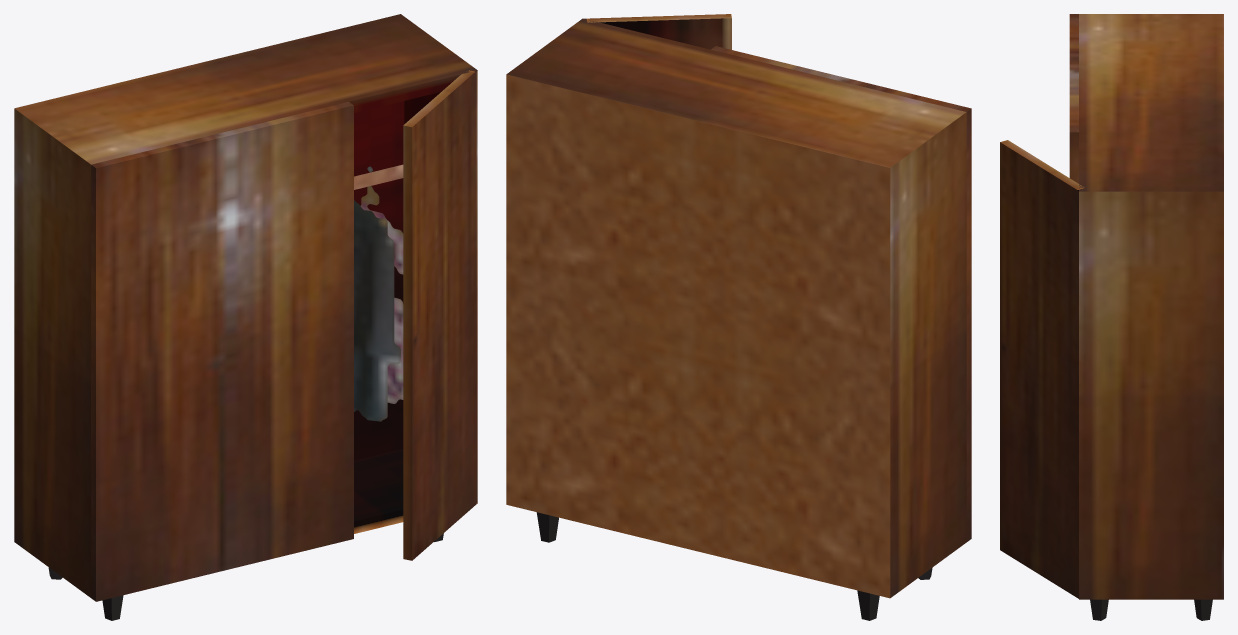
Rendered from Shelf.fbx.
3 renders of one model, left to right at view 1: azimuth 30°, elevation 25°; view 2: azimuth 150°, elevation 25°; view 3: azimuth 270°, elevation 25°, orthographic. The views are drawn at different scales.
Parts seen in each view (by area): view 1: Shelf; view 2: Shelf; view 3: Shelf.
Boxes of the visible parts, x1,y1,x2,y2 form: Shelf: [14, 14, 477, 620]; Shelf: [506, 14, 971, 620]; Shelf: [1000, 14, 1223, 620].
Bounding box in the file's own units: 182 × 211 × 96.9.
1 material, 1 textured.
